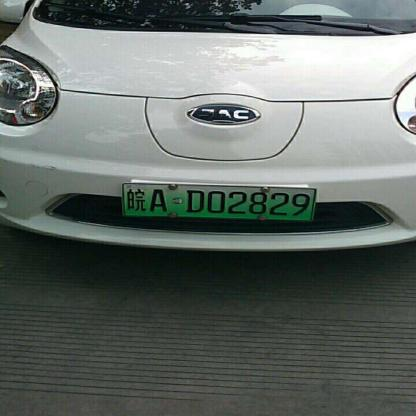lp: (124, 185, 313, 218)
